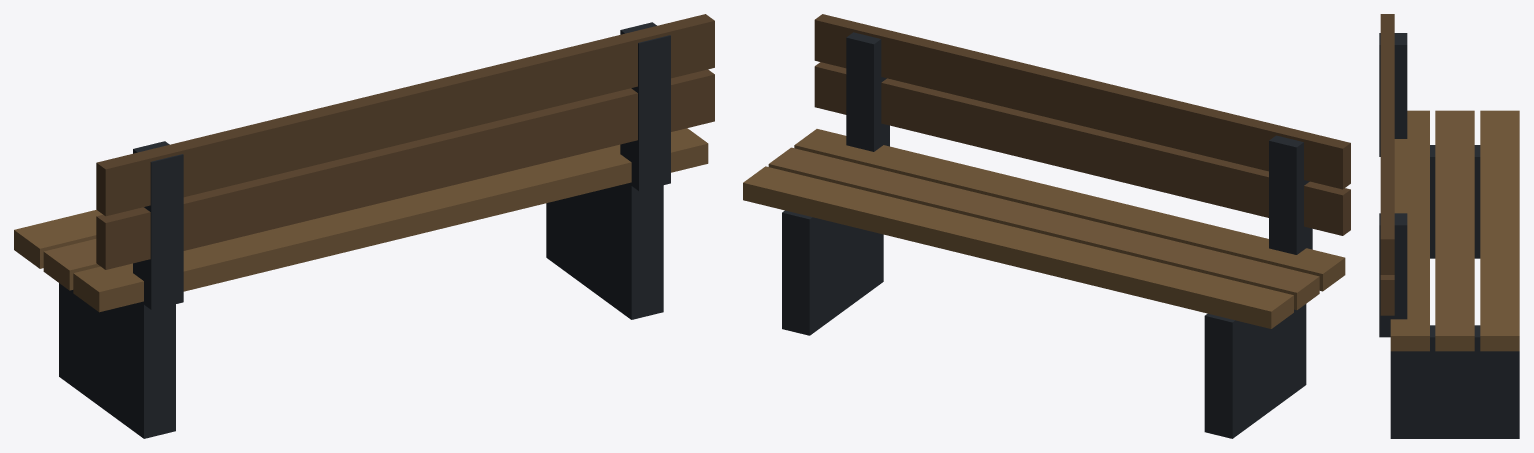
Rendered from prop_bench_a-CmrBuB6R.glb.
3 views of the same model, side by side, from view 1: azimuth 30°, elevation 25°; view 2: azimuth 150°, elevation 25°; view 3: azimuth 270°, elevation 25° (orthographic). The views are drawn at different scales.
Visible parts, largest first — view 1: prop; view 2: prop; view 3: prop.
Boxes of the visible parts, x1,y1,x2,y2 form: prop: [14, 14, 714, 438]; prop: [743, 14, 1350, 438]; prop: [1379, 14, 1519, 438].
Bounding box in the file's own units: 1.9 × 0.85 × 0.5.
